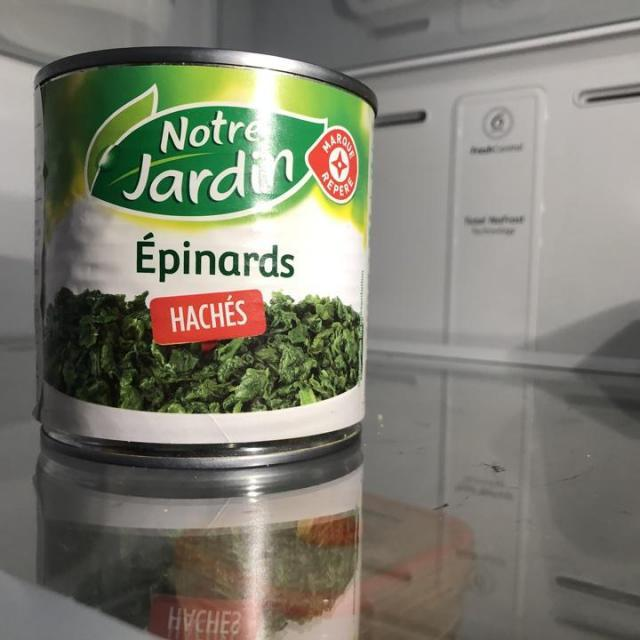recyclable: (31, 42, 383, 474)
